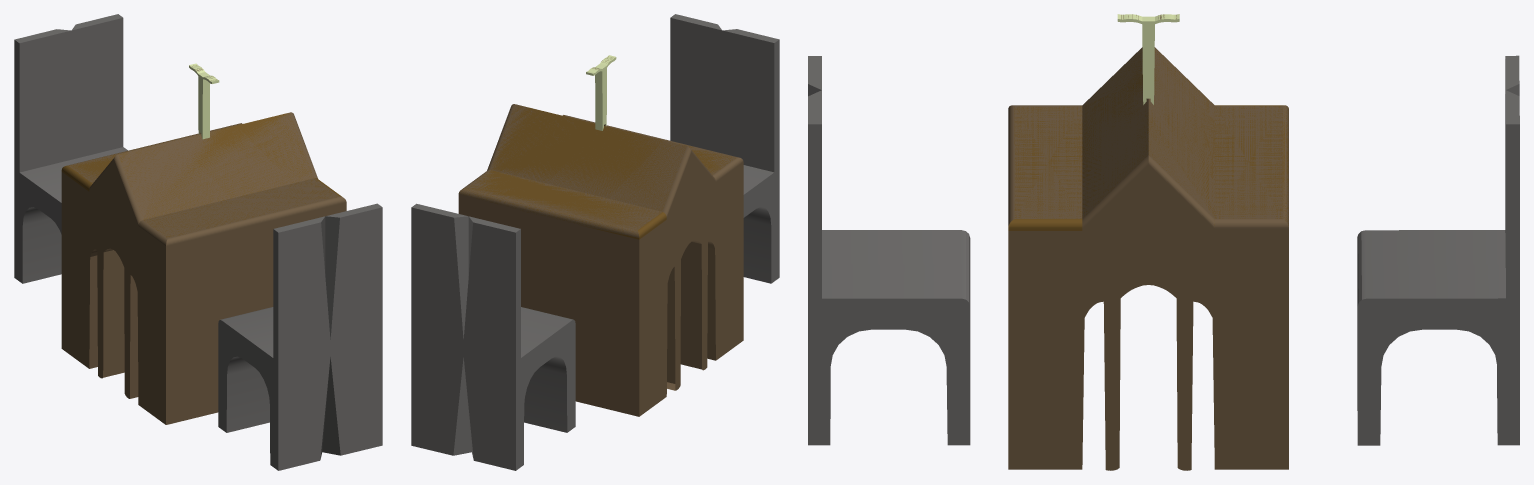
The model's file is Mesa Biblioteca.glb.
The picture shows the model from 3 angles, left to right: view 1: azimuth 30°, elevation 25°; view 2: azimuth 150°, elevation 25°; view 3: azimuth 270°, elevation 25°; orthographic projection. The views are drawn at different scales.
Parts seen in each view (by area): view 1: Mesa, Sillas; view 2: Mesa, Sillas; view 3: Mesa, Sillas.
Boxes of the visible parts, box(x1,y1,x2,y2) form: Mesa: box(61, 63, 346, 424); Sillas: box(14, 14, 382, 470); Mesa: box(458, 55, 743, 416); Sillas: box(411, 14, 779, 470); Mesa: box(1008, 14, 1288, 470); Sillas: box(808, 55, 1519, 445).
Size of the model in its own units: 3.47 by 5.38 by 8.78.
